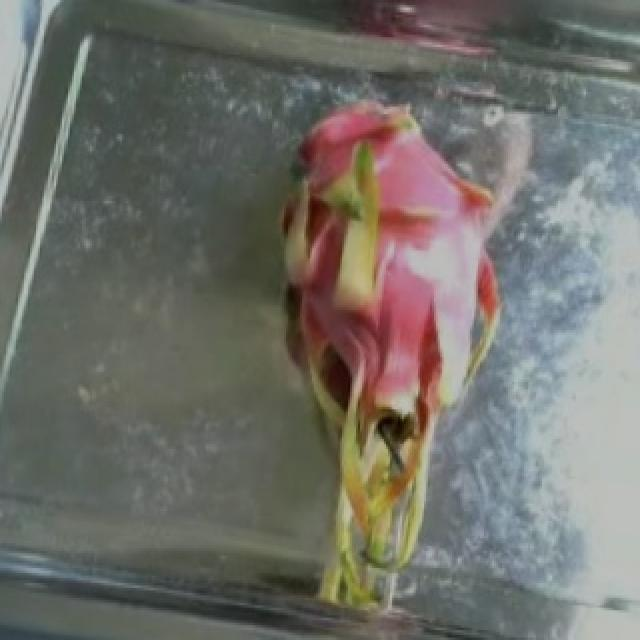fruit: (182, 65, 540, 501), (302, 0, 634, 67)
